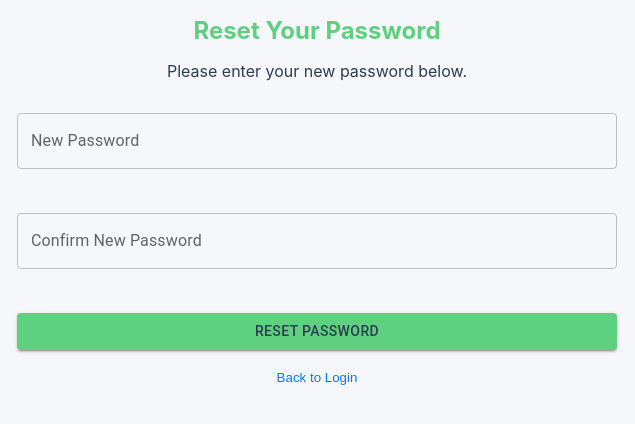
Admin Password Reset - Reset Password Page › should validate minimum password length
Check: the heading "Reset Your Password" is shown, box [193,16,441,45]
Type "12345" into the password field labelled "New Password". click: (317, 141)
box: [17,113,617,169]
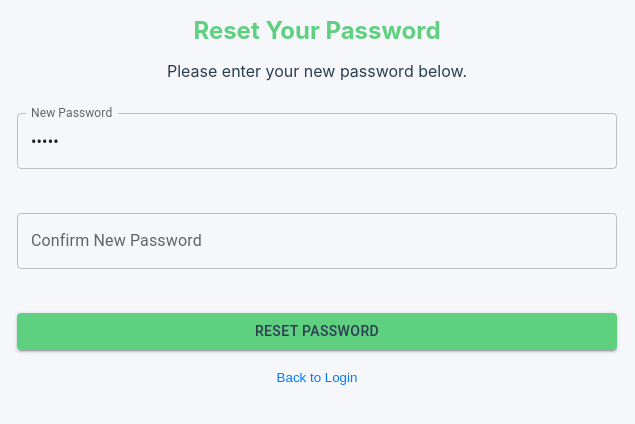
Type "12345" into the password field labelled "Confirm New Password". click: (317, 241)
box: [17,213,617,269]
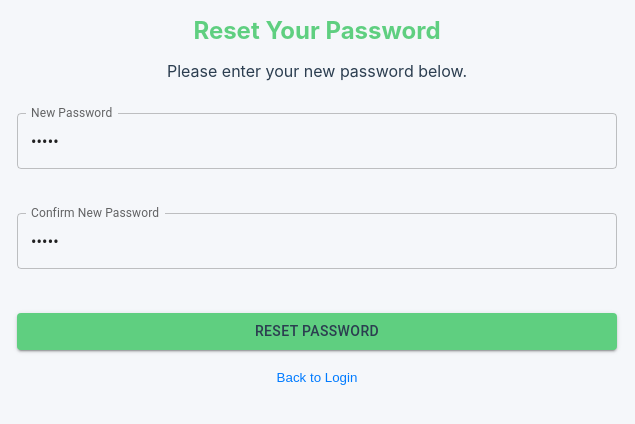
Click the button "Reset Password". click: click(317, 331)
box: [17,313,617,350]
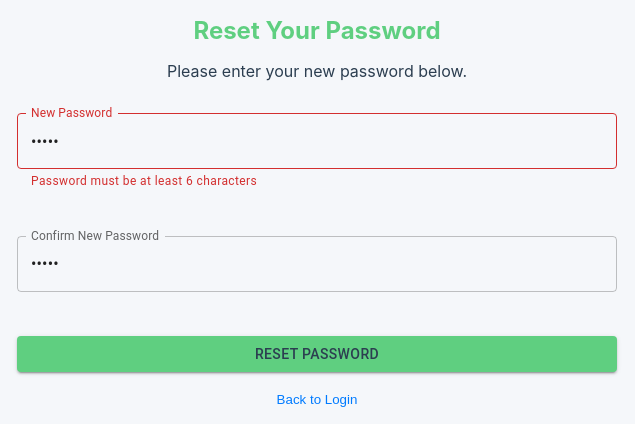
Check: the text "Reset Password" shows "Password must be at least 6 characters", box [31,174,257,188]
